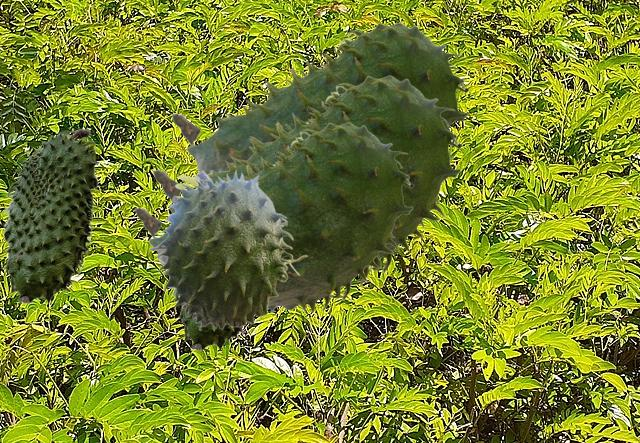guyabano: (152, 75, 461, 285), (134, 122, 413, 317), (171, 22, 468, 172), (148, 168, 307, 329), (2, 128, 98, 303), (176, 304, 248, 350)
